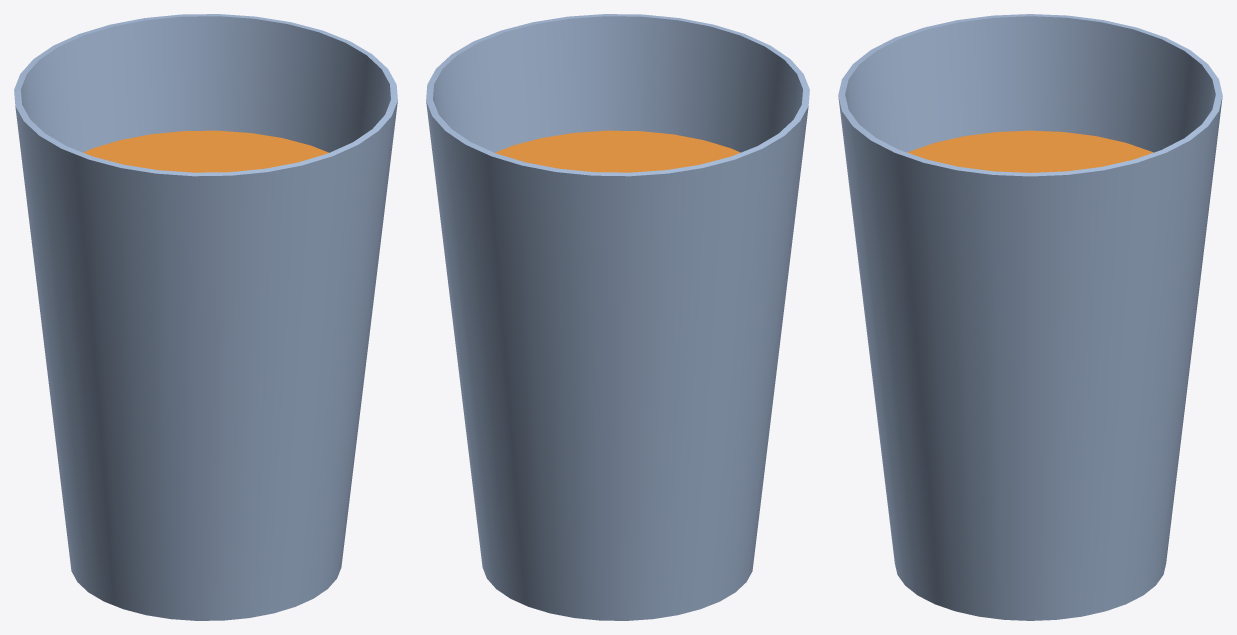
The model's file is Baso de Jugo Fix.fbx.
3 views of the same model, side by side, from view 1: azimuth 30°, elevation 25°; view 2: azimuth 150°, elevation 25°; view 3: azimuth 270°, elevation 25° (orthographic).
Visible parts, largest first — view 1: Baso, Jugo; view 2: Baso, Jugo; view 3: Baso, Jugo.
Part boxes in pixels (<box>): Baso: <box>14,14,397,620</box>; Jugo: <box>83,130,328,172</box>; Baso: <box>426,14,809,620</box>; Jugo: <box>495,130,740,172</box>; Baso: <box>838,14,1222,620</box>; Jugo: <box>907,130,1153,172</box>.
Bounding box in the file's own units: 5.56 × 7.49 × 5.56.
